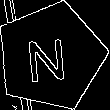N_N: (28, 30, 73, 83)
